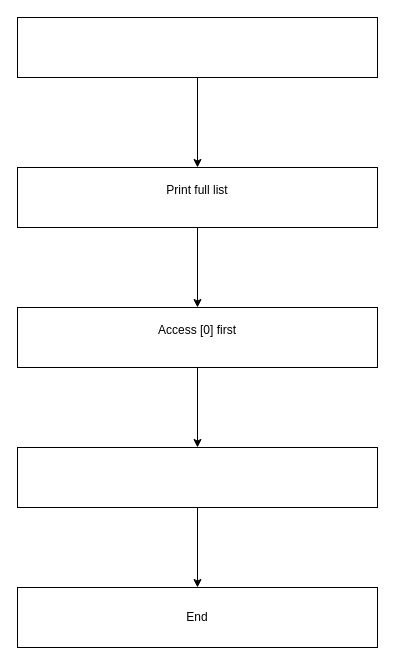
Some shapes in this 395 by 665 pixel diagram are drawn without their labels. Here are the shapes that lost their labels. From the top down, the centre of each, then its label:
the point at 197,47: Start: transactions = [100,120]
the point at 197,477: Change [1] length
